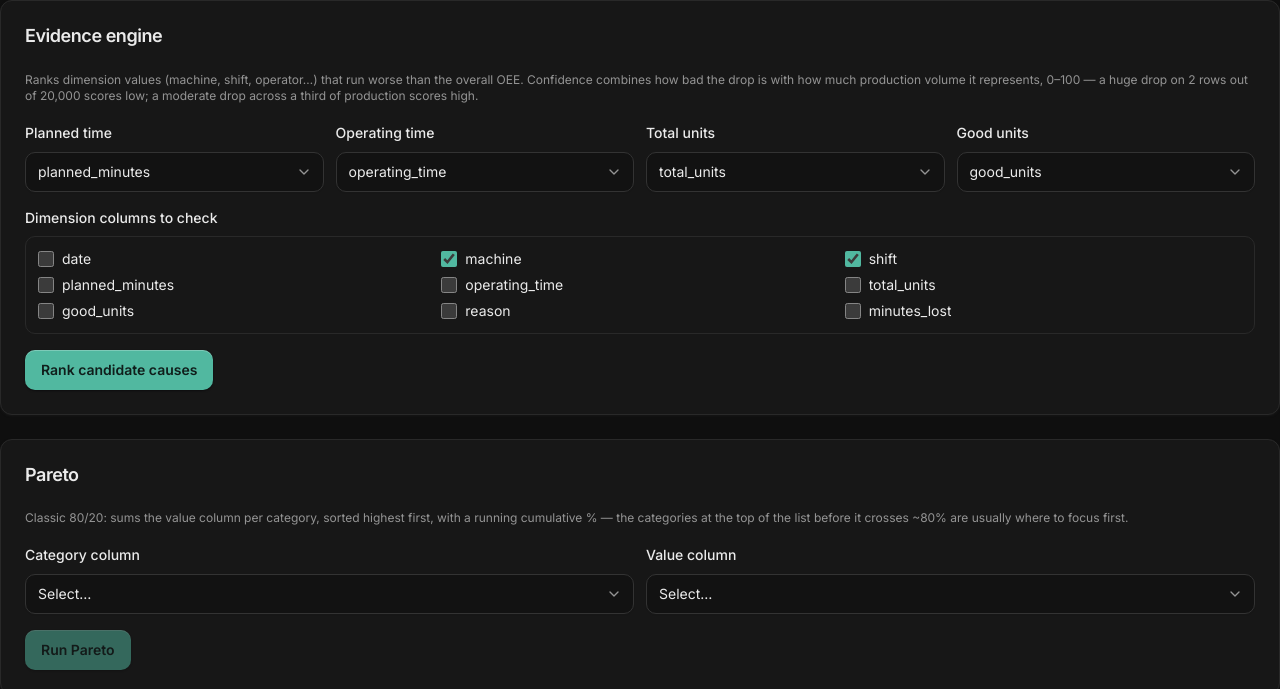
Test case: Analysis › ranks candidates with auto-mapped columns and adds one as a cause
Click the button "Rank candidate causes" at (119, 370), box [25,350,213,390]
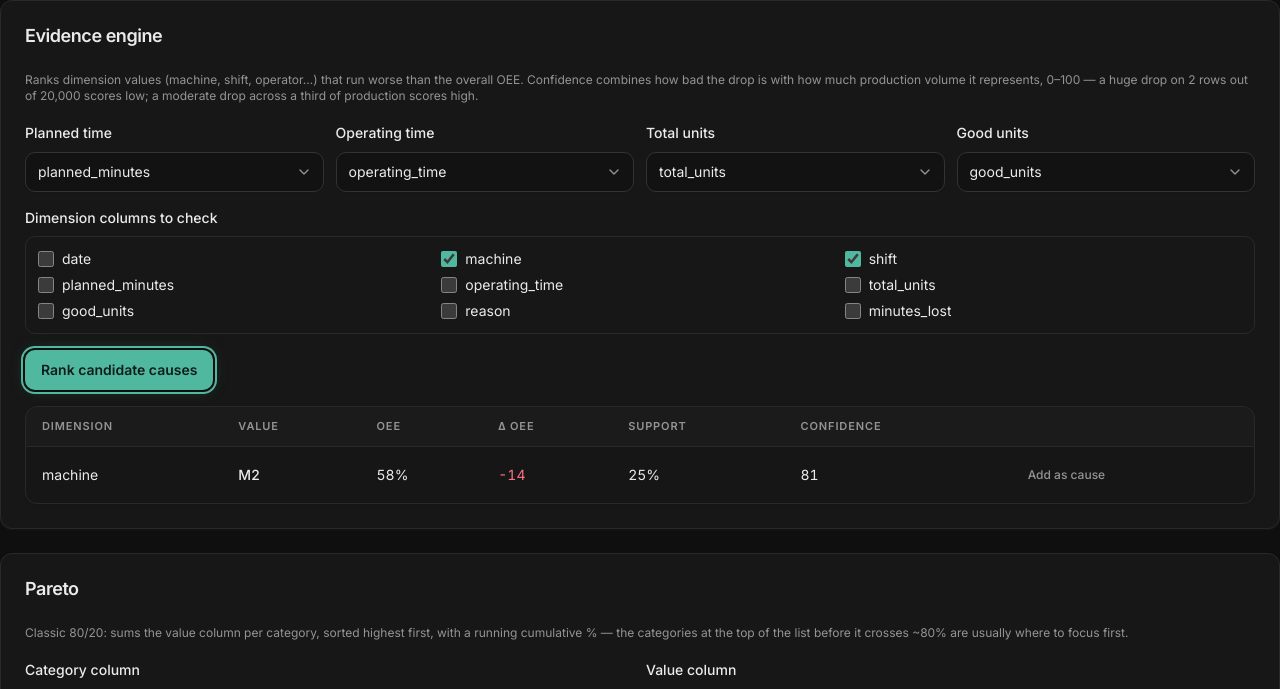
Expected: the text "M2" is shown, [222,446,360,503]
Expected: the text "58%" is shown, [360,446,482,503]
Click the button "Add as cause" at (1066, 475), box [1016,459,1117,491]
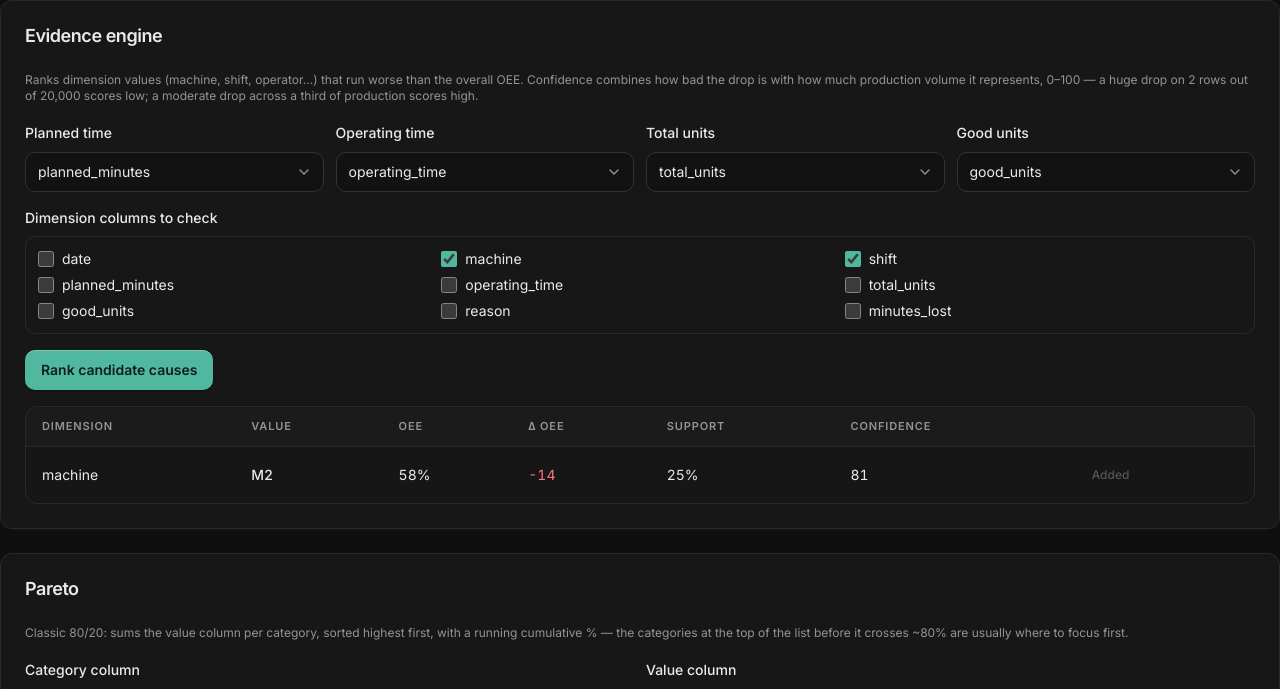
Expected: the button "Added" is shown, [1080,459,1141,491]
